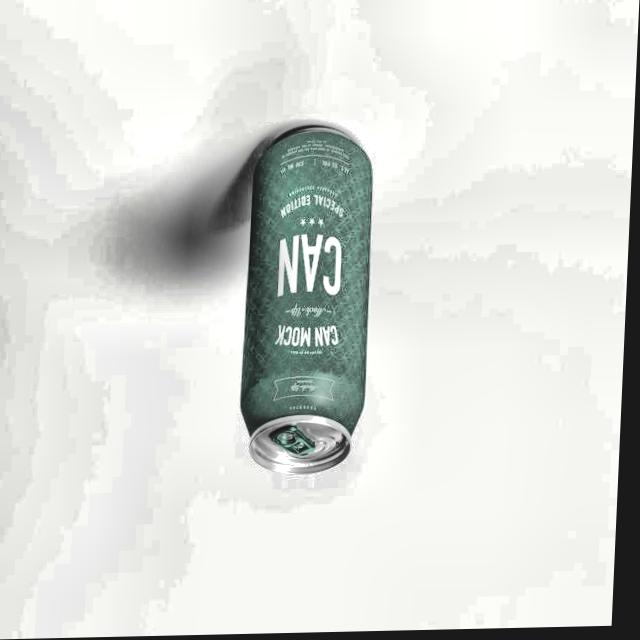can: (232, 119, 380, 483)
